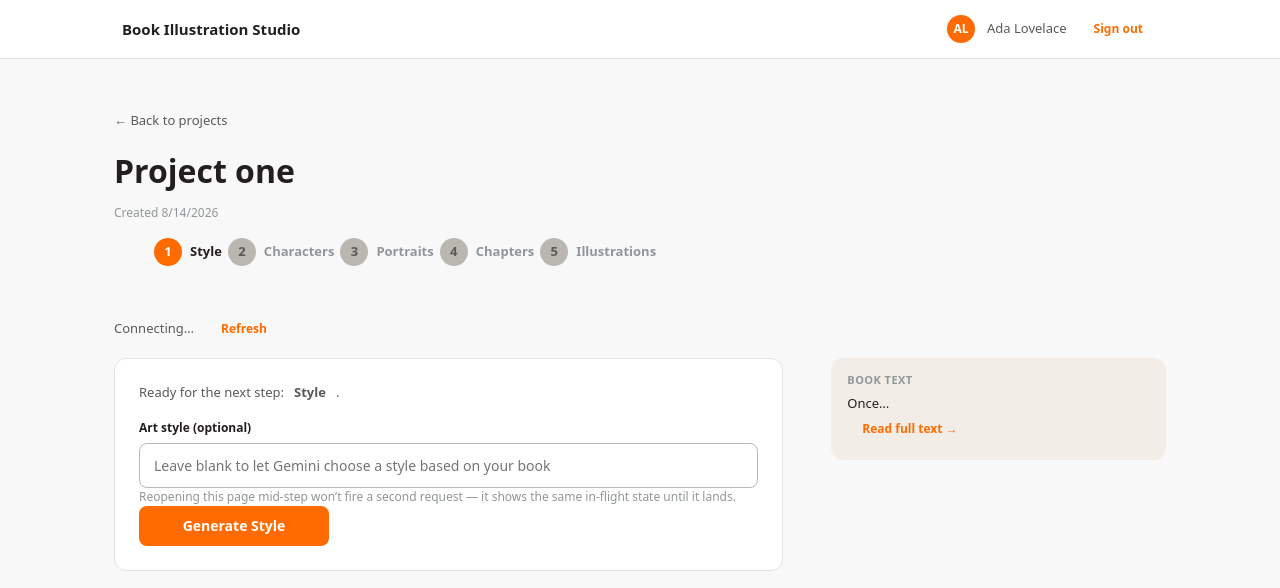
Test: detail routes remount so local input and a late run cannot leak between projects
The width and height of the screenshot is (1280, 588).
Type "p1 private draft" into the field labelled "Art style (optional)".
click(449, 466); type("p1 private draft")  # box [139,443,758,488]
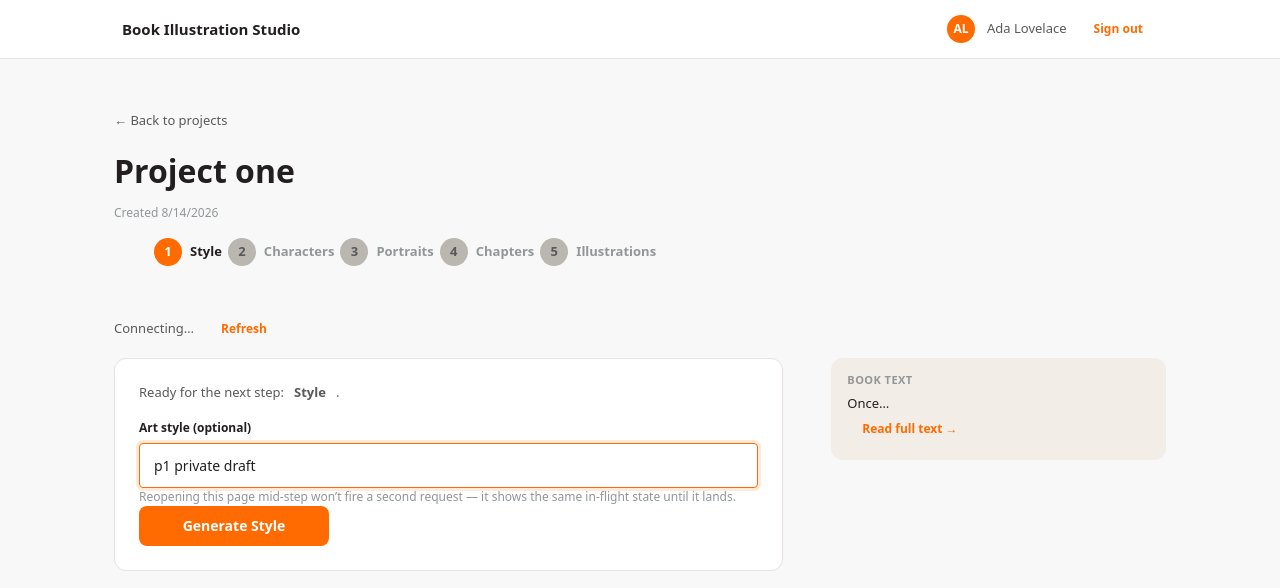
Click the button "Generate Style".
click(234, 526)  # box [139,506,329,546]
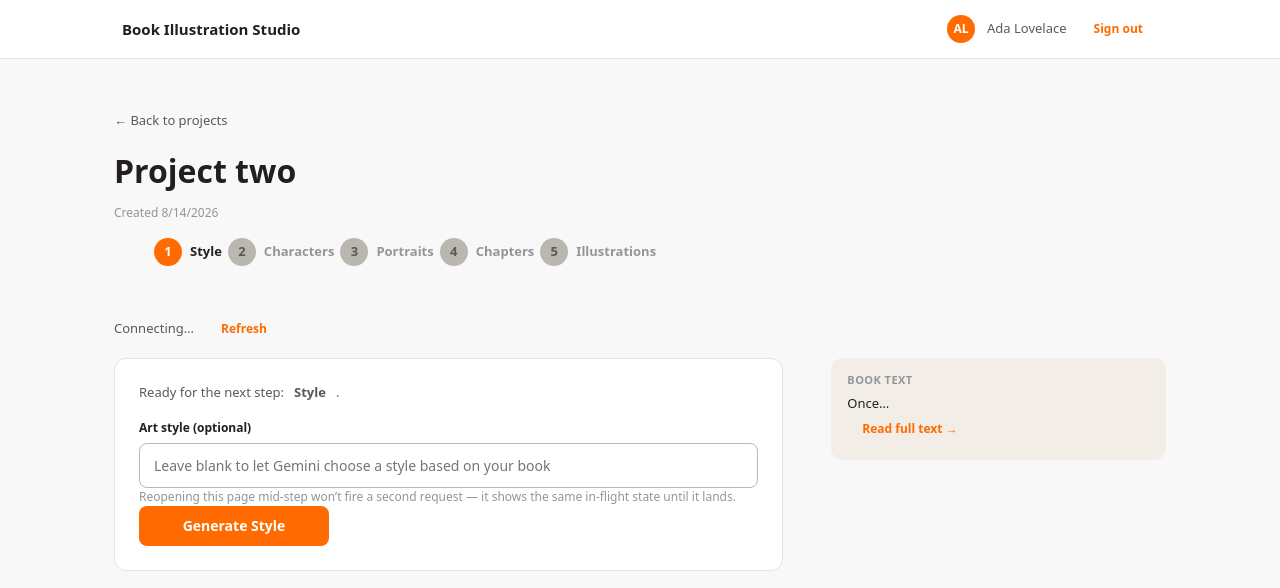
Now the field labelled "Art style (optional)" is empty, box [139,443,758,488]
Now the heading "Project two" is shown, box [114,149,296,192]
